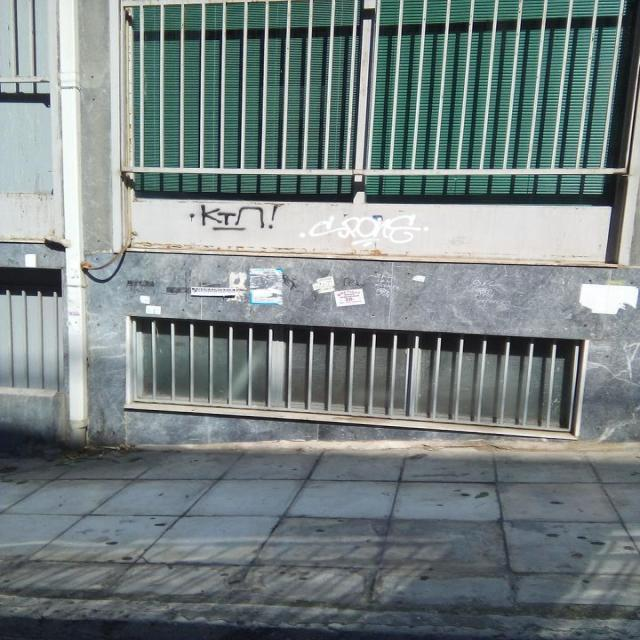nonspitting: (300, 212, 430, 246), (189, 204, 277, 230)
